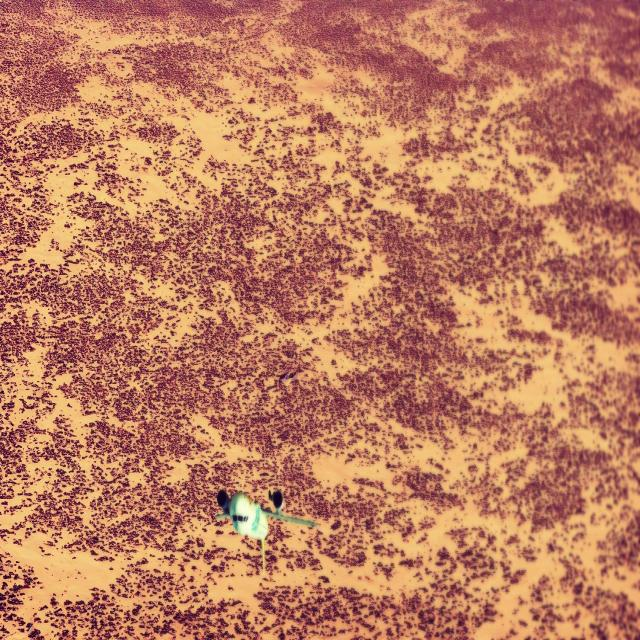airplane: (214, 487, 318, 570)
